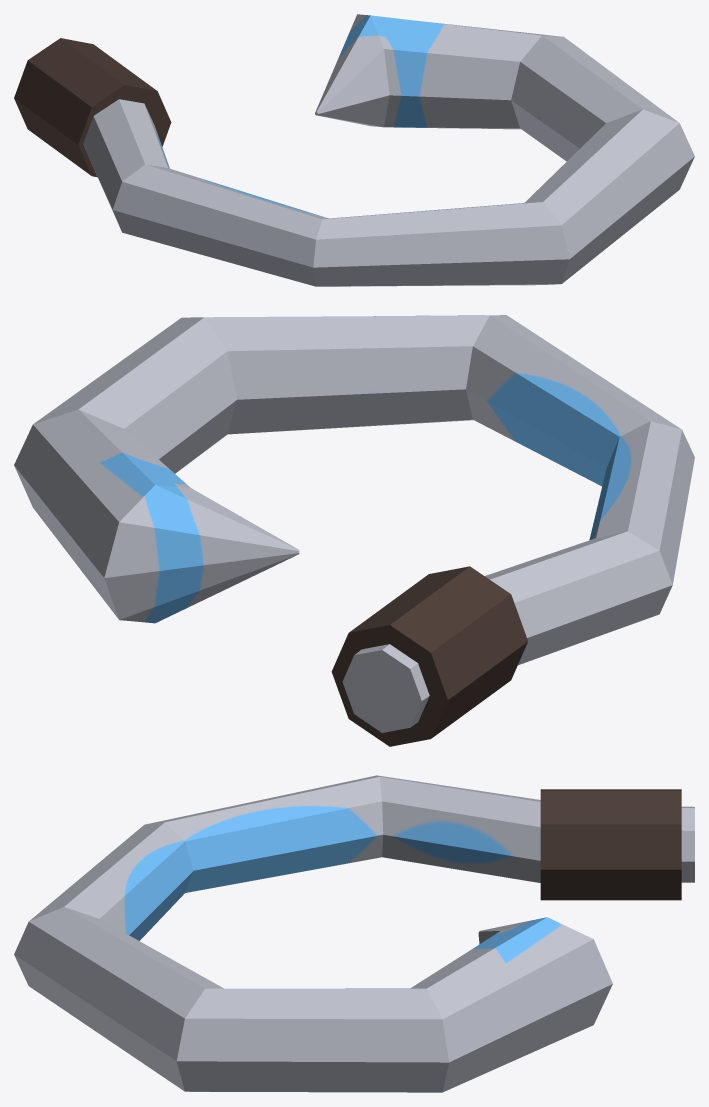
File: return_sickle.glb
3 views of the same model, one above another, from view 1: azimuth 30°, elevation 25°; view 2: azimuth 150°, elevation 25°; view 3: azimuth 270°, elevation 25° (orthographic). The views are drawn at different scales.
Parts seen in each view (by area): view 1: return_sickle_Mesh; view 2: return_sickle_Mesh; view 3: return_sickle_Mesh.
Part boxes in pixels (x1,y1,x2,y2): return_sickle_Mesh: (14, 14, 694, 286); return_sickle_Mesh: (14, 315, 694, 746); return_sickle_Mesh: (14, 775, 694, 1092).
Bounding box in the file's own units: 0.9328 × 0.2 × 1.01.
Materials: 2 (1 with a texture image).
